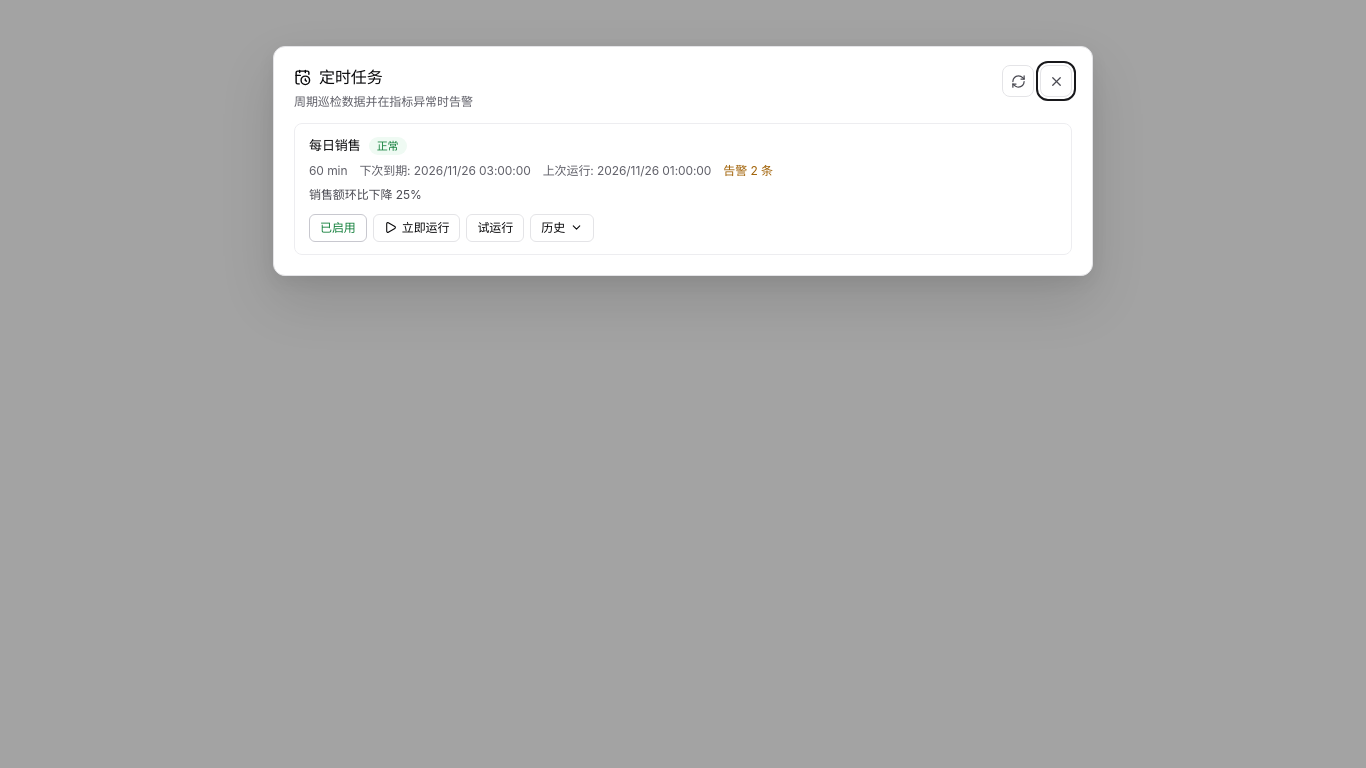
Test: SchedulePanel › 立即运行后刷新概览
The image size is (1366, 768).
Expected: the text "每日销售" is shown, [309,136,361,156]
What coordinates should you click on to do the following:
click the button "立即运行"
I would click on:
 (417, 228)
Its box is [373,214,460,242].
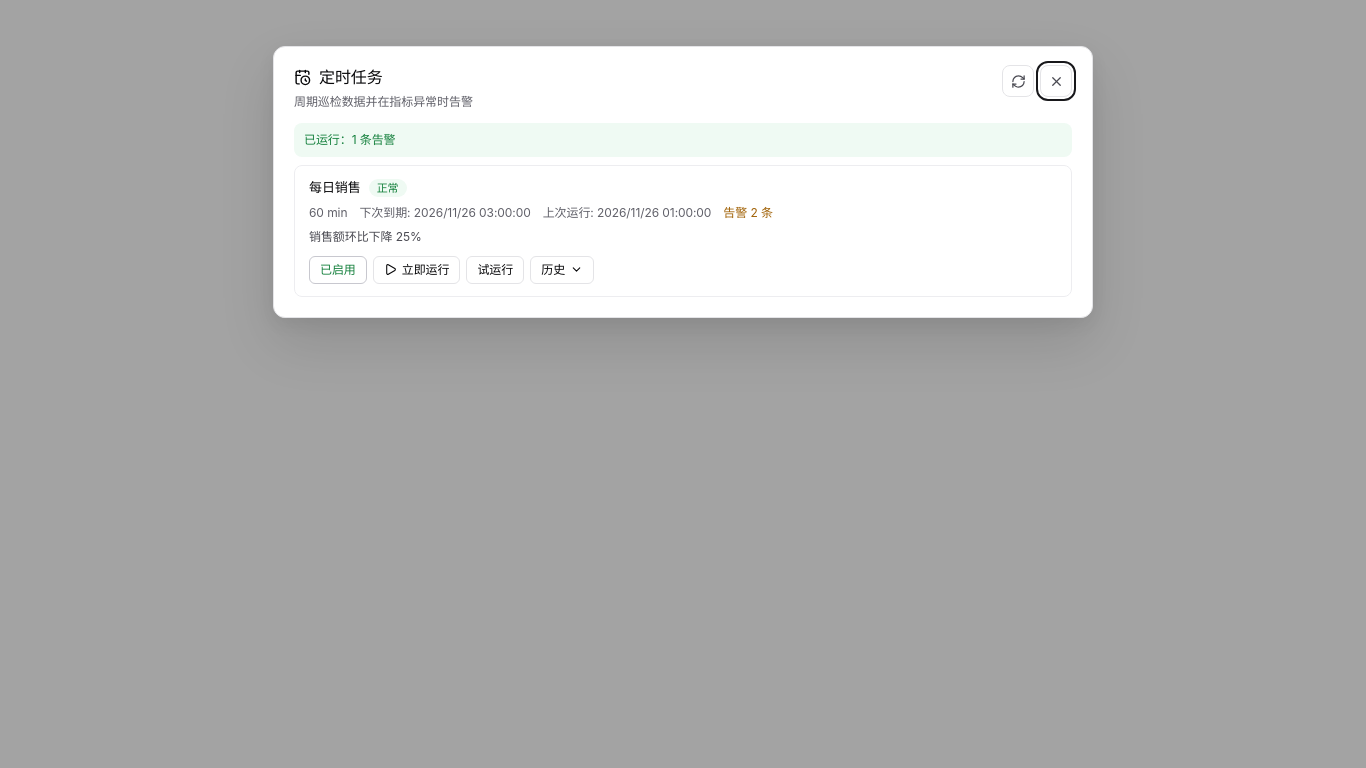
Expected: the text "已运行：1 条告警" is shown, [294,123,1072,157]
